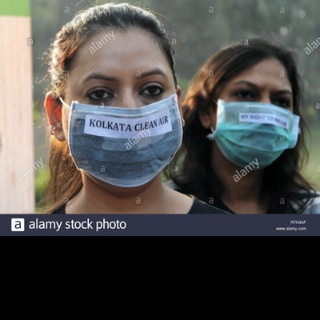with_mask: (62, 64, 183, 188), (212, 76, 299, 169)
